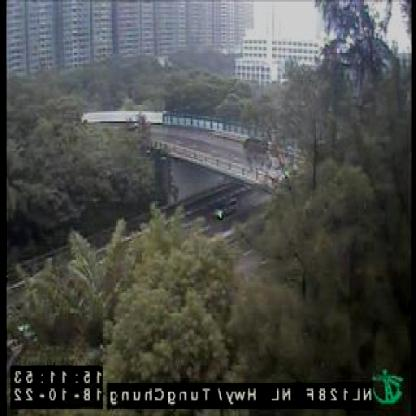Car: (240, 137, 268, 154)
